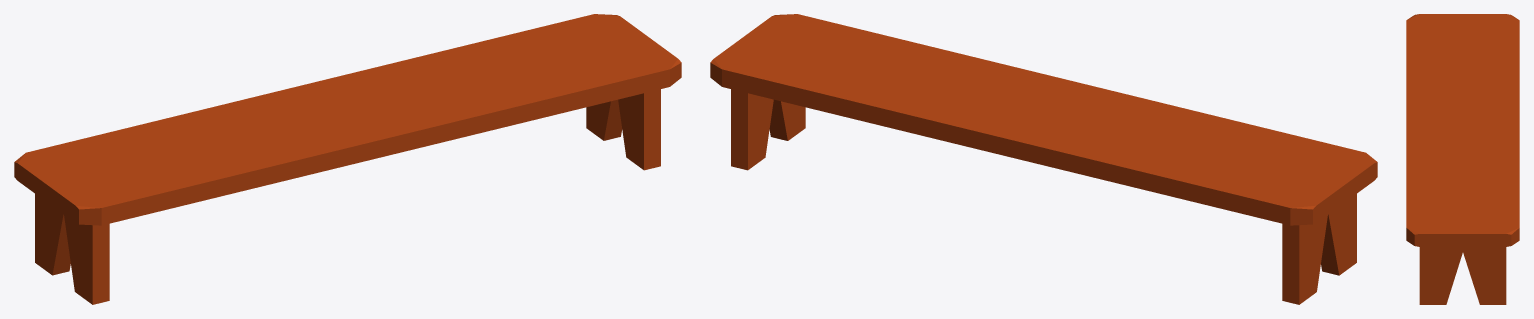
The model's file is Banco.dae.
3 views of the same model, side by side, from view 1: azimuth 30°, elevation 25°; view 2: azimuth 150°, elevation 25°; view 3: azimuth 270°, elevation 25° (orthographic). The views are drawn at different scales.
Visible parts, largest first — view 1: Plane; view 2: Plane; view 3: Plane.
Boxes of the visible parts, <box> form: Plane: <box>14,14,681,304</box>; Plane: <box>710,14,1377,304</box>; Plane: <box>1406,14,1519,304</box>.
Size of the model in its own units: 4.94 by 1.07 by 0.8103.
